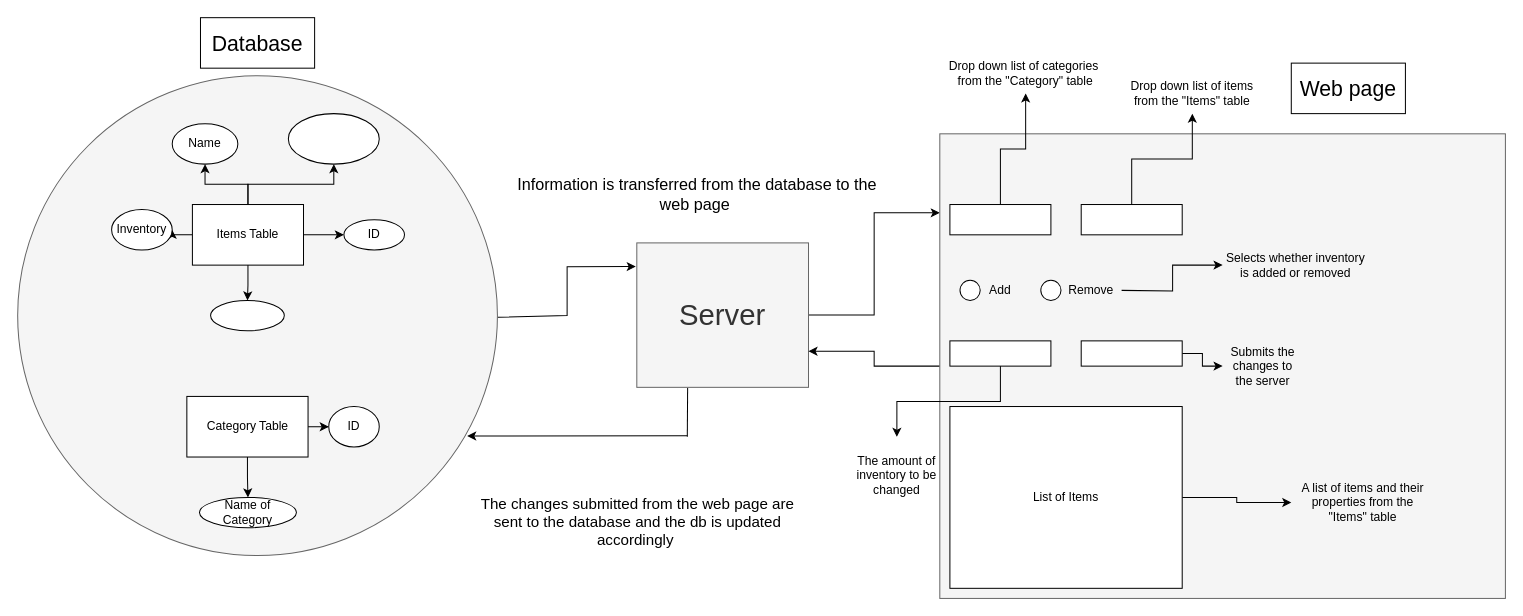
This 1523x616 diagram has some shape labels left out. Each missing label, with the centre of its shape:
Amount: (1000,353)
Category: (1000,219)
Corresponding Category: (333,138)
Items: (1131,219)
Price: (247,315)
Submit: (1131,353)
